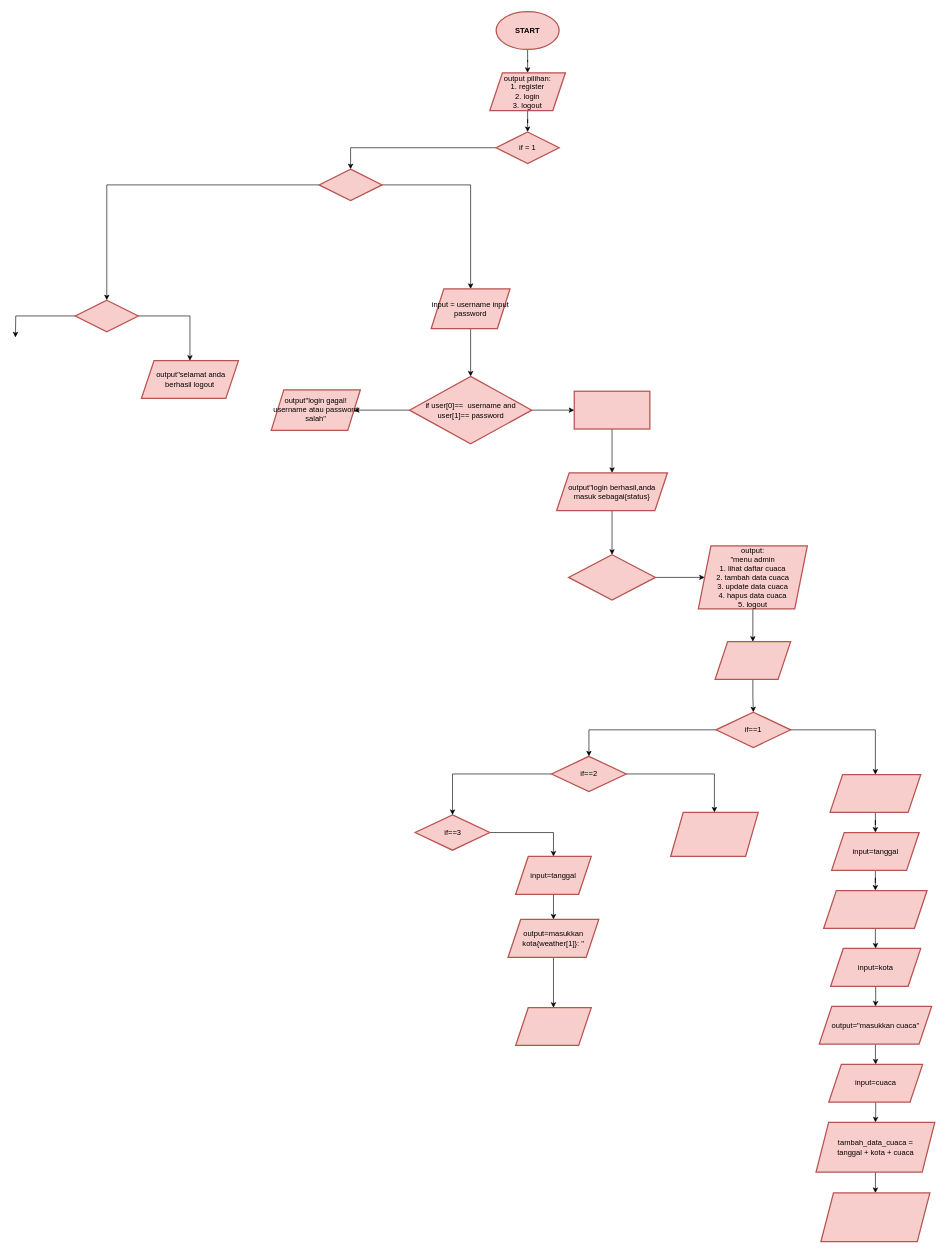
The diagram is 946 pixels wide and 1253 high, and some of its shapes have lost their labels. The box of each missing label's shape, as (x1, y1, x2, y2) in pixels:
if = 2: (318, 168, 382, 201)
if = 3: (74, 299, 139, 332)
if status == "admin": (568, 554, 656, 600)
input =1/2/3/4/5: (714, 641, 791, 680)
input=: (515, 1007, 592, 1046)
output="data cuaca'{tanggal}'berhasil ditambahkan.": (820, 1192, 930, 1242)
output="masukkan kota": (823, 890, 927, 929)
output="masukkan tanggal": (829, 774, 921, 813)
output=(f'tanggal:{weather[0]}, kota:{weather[1]}, cuaca:{weather[2]}"): (670, 811, 759, 857)
status=user[2]: (573, 390, 650, 429)
